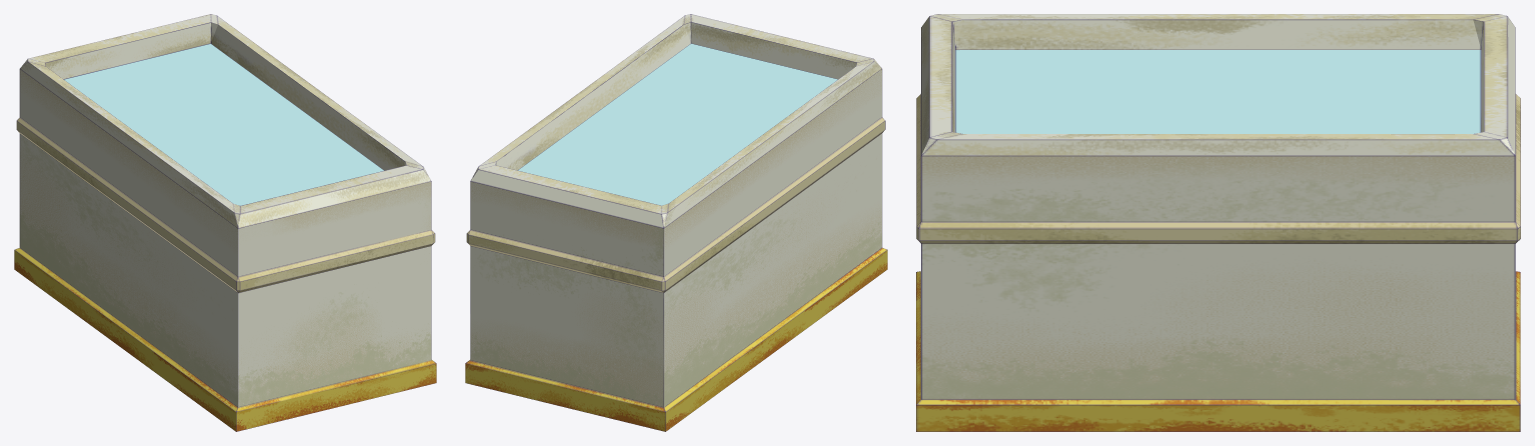
Rendered from coolbox_base.glb.
The picture shows the model from 3 angles, left to right: view 1: azimuth 30°, elevation 25°; view 2: azimuth 150°, elevation 25°; view 3: azimuth 270°, elevation 25°; orthographic projection. The views are drawn at different scales.
Visible parts, largest first — view 1: base-col; view 2: base-col; view 3: base-col.
Part boxes in pixels (bbox=[...]): base-col: bbox=[14, 14, 436, 431]; base-col: bbox=[465, 14, 887, 431]; base-col: bbox=[916, 14, 1520, 431].
Size of the model in its own units: 2.09 by 2.11 by 4.
Materials: 1 (1 with a texture image).
